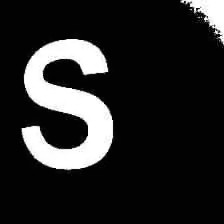LTR_S: (10, 35, 119, 169)
